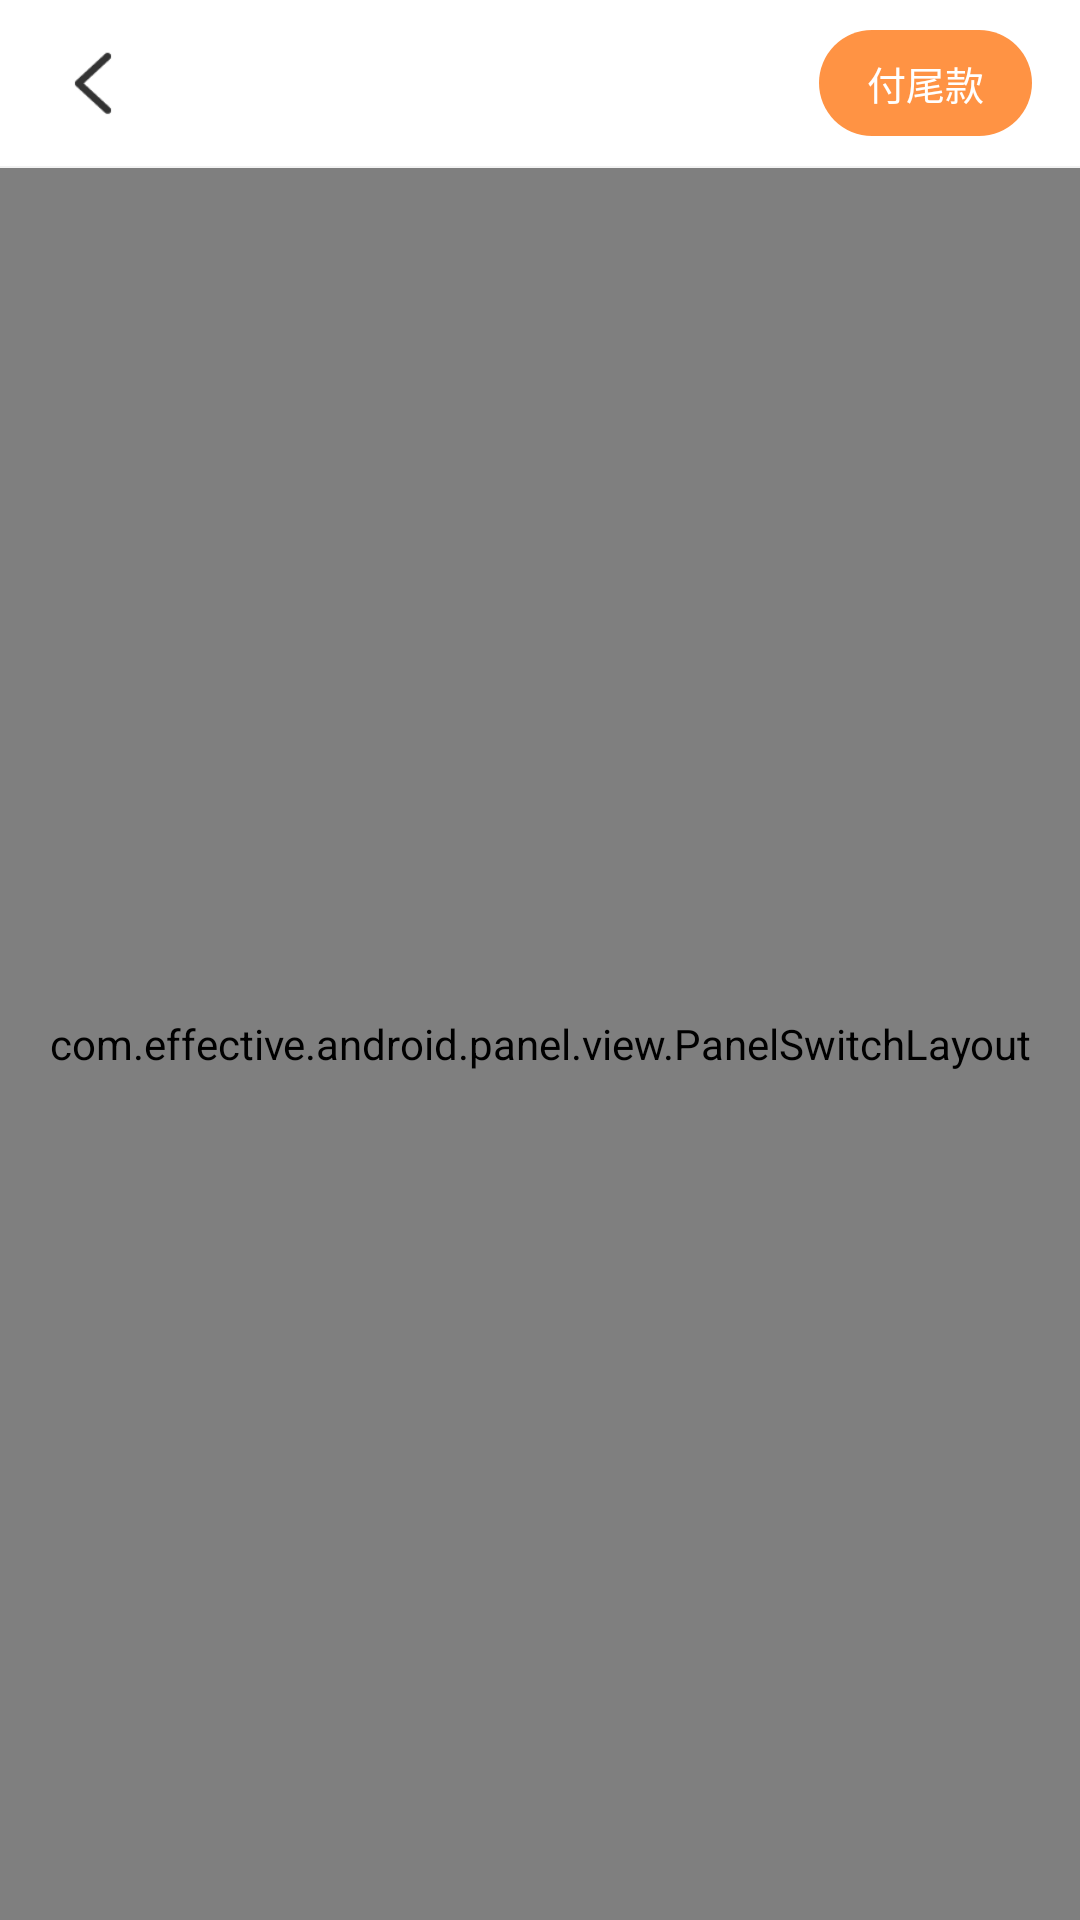

Screen size 1080*1920. Icon name, then its box in pixels as (x1, y1, x2, y2):
back: (75, 52, 111, 114)
